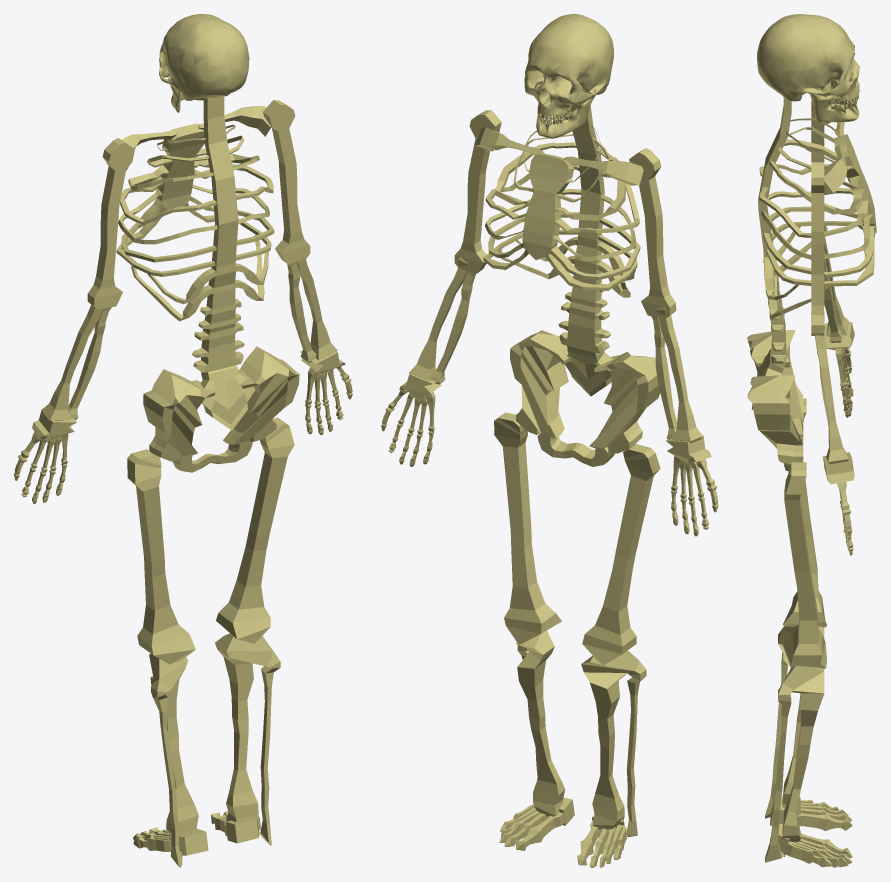
File: skeleton.obj
3 views of the same model, side by side, from view 1: azimuth 30°, elevation 25°; view 2: azimuth 150°, elevation 25°; view 3: azimuth 270°, elevation 25° (orthographic).
Visible parts, largest first — view 1: Oberschenkel_Cube.001, Wirbelsäule_Cube.019, Schienbein_Cube.003, Cube_Cube.020, Hüfte_Cube.002, Oberarm_Cube.010, lowpoly+skull, Unterarm_Cube.011, Mittelfuß_Cube.005, Schlüsselbein_Cube.018, Hand_Cube.012, Kleinerfinger_Cube.017 (+3 smaller); view 2: Oberschenkel_Cube.001, Cube_Cube.020, Hüfte_Cube.002, Schienbein_Cube.003, Wirbelsäule_Cube.019, lowpoly+skull, Oberarm_Cube.010, Unterarm_Cube.011, Schlüsselbein_Cube.018, Hand_Cube.012, Zeh0_Cube.004, Kleinerfinger_Cube.017 (+5 smaller); view 3: lowpoly+skull, Cube_Cube.020, Schienbein_Cube.003, Oberschenkel_Cube.001, Hüfte_Cube.002, Wirbelsäule_Cube.019, Oberarm_Cube.010, Unterarm_Cube.011, Hand_Cube.012, Zeh0_Cube.004, Schlüsselbein_Cube.018, Zeh4_Cube.009 (+6 smaller).
Part boxes in pixels (x1,y1,x2,y2): Oberschenkel_Cube.001: [127, 417, 294, 664]; Wirbelsäule_Cube.019: [131, 96, 268, 430]; Schienbein_Cube.003: [149, 633, 280, 867]; Cube_Cube.020: [116, 123, 274, 276]; Hüfte_Cube.002: [143, 346, 299, 472]; Oberarm_Cube.010: [87, 100, 310, 309]; lowpoly+skull: [159, 14, 249, 112]; Unterarm_Cube.011: [42, 251, 336, 421]; Mittelfuß_Cube.005: [169, 817, 259, 855]; Schlüsselbein_Cube.018: [122, 106, 270, 170]; Hand_Cube.012: [32, 350, 345, 439]; Kleinerfinger_Cube.017: [56, 367, 317, 495]; Oberschenkel_Cube.001: [494, 412, 660, 665]; Cube_Cube.020: [483, 125, 640, 290]; Hüfte_Cube.002: [510, 330, 660, 466]; Schienbein_Cube.003: [516, 630, 646, 837]; Wirbelsäule_Cube.019: [499, 89, 636, 396]; lowpoly+skull: [524, 14, 613, 138]; Oberarm_Cube.010: [454, 110, 676, 318]; Unterarm_Cube.011: [409, 256, 702, 443]; Schlüsselbein_Cube.018: [475, 127, 643, 185]; Hand_Cube.012: [399, 373, 711, 463]; Zeh0_Cube.004: [516, 812, 601, 865]; Kleinerfinger_Cube.017: [423, 392, 680, 525]; lowpoly+skull: [757, 14, 859, 122]; Cube_Cube.020: [759, 118, 876, 286]; Schienbein_Cube.003: [765, 625, 824, 862]; Oberschenkel_Cube.001: [782, 398, 826, 668]; Hüfte_Cube.002: [747, 330, 803, 470]; Wirbelsäule_Cube.019: [751, 97, 827, 409]; Oberarm_Cube.010: [811, 99, 824, 335]; Unterarm_Cube.011: [815, 236, 848, 464]; Hand_Cube.012: [822, 322, 854, 484]; Zeh0_Cube.004: [798, 813, 852, 858]; Schlüsselbein_Cube.018: [813, 111, 847, 193]; Zeh4_Cube.009: [784, 799, 832, 867].
Size of the model in its own units: 1.51 by 3.54 by 0.5044.
